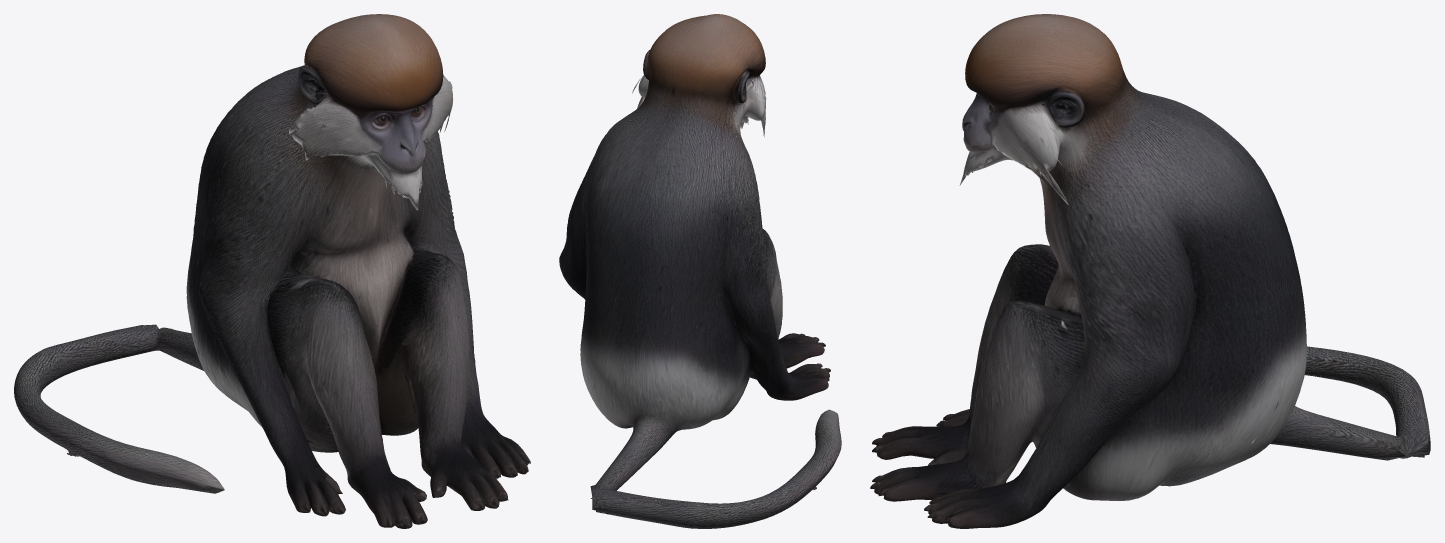
Rendered from Langur.glb.
3 views of the same model, side by side, from view 1: azimuth 30°, elevation 25°; view 2: azimuth 150°, elevation 25°; view 3: azimuth 270°, elevation 25° (orthographic). The views are drawn at different scales.
Visible parts, largest first — view 1: node_0.001; view 2: node_0.001; view 3: node_0.001.
Part boxes in pixels (x1,y1,x2,y2): node_0.001: (14, 14, 530, 528); node_0.001: (559, 14, 841, 528); node_0.001: (870, 14, 1430, 528).
Bounding box in the file's own units: 0.4307 × 0.5233 × 0.5726.
Materials: 1 (1 with a texture image).
